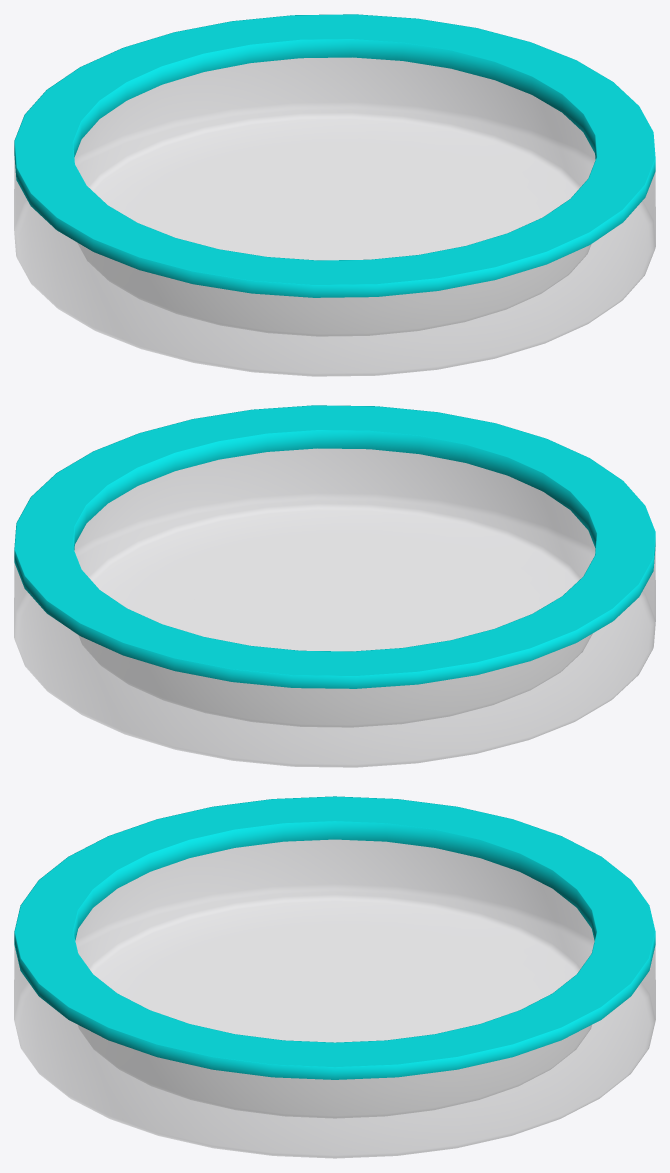
Rendered from PratoESQ.fbx.
3 renders of one model, top to bottom at view 1: azimuth 30°, elevation 25°; view 2: azimuth 150°, elevation 25°; view 3: azimuth 270°, elevation 25°, orthographic.
Visible parts, largest first — view 1: PratoESQ; view 2: PratoESQ; view 3: PratoESQ.
Boxes of the visible parts, x1=… form: PratoESQ: x1=14, y1=14, x2=655, y2=376; PratoESQ: x1=14, y1=405, x2=655, y2=767; PratoESQ: x1=14, y1=796, x2=655, y2=1158.
Size of the model in its own units: 2761 by 442 by 2761.
